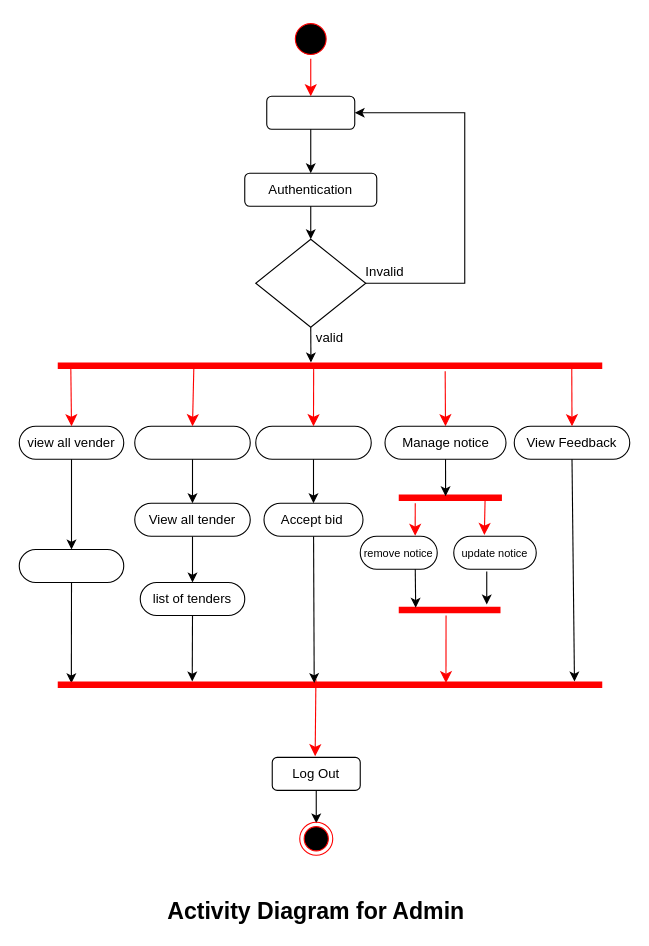
Image size: 649x946. Some labels were removed from this diagram. Each missing label, with the centre of its shape:
checks: (310,282)
create new tender: (192,442)
list of vender: (71,565)
Login: (310,112)
view tenders bids: (313,442)
